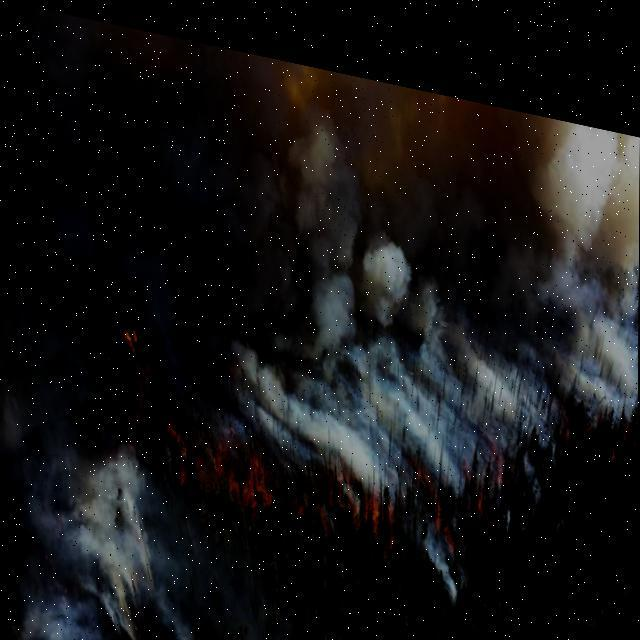Fire: (115, 318, 393, 534)
